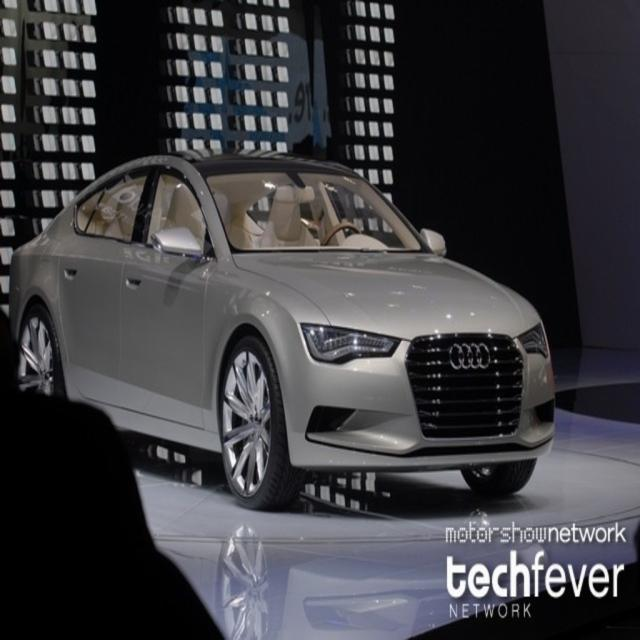Car: (10, 152, 554, 510)
